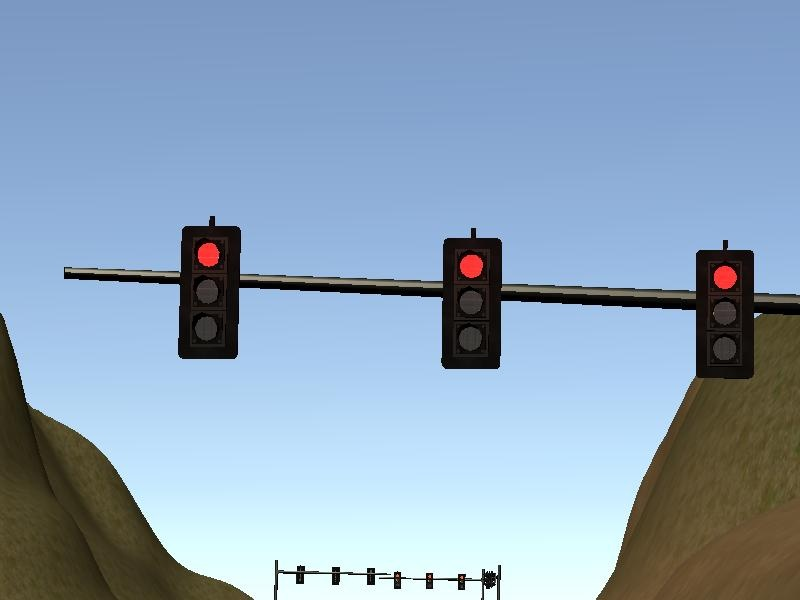RED: (175, 225, 241, 358), (440, 236, 501, 368), (693, 250, 754, 382)
